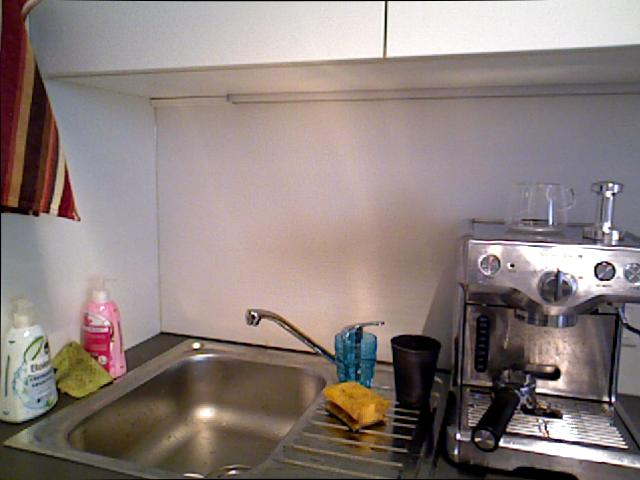bench: (0, 292, 62, 426), (72, 272, 134, 383)
couch: (32, 343, 331, 479)
handbag: (387, 329, 445, 413), (504, 177, 580, 237), (333, 327, 379, 396)
